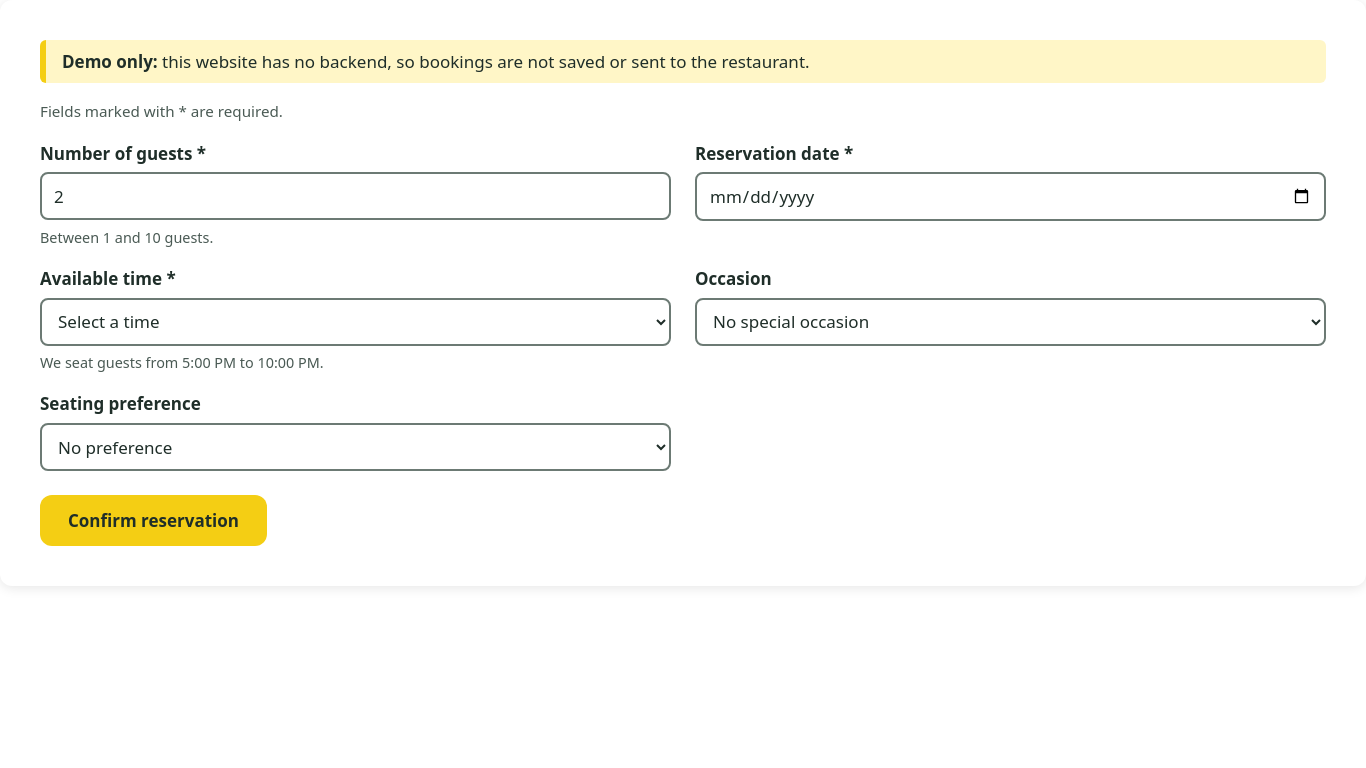
Scenario: BookingForm › shows an error when the number of guests is missing
Clear the number field labelled "Number of guests *". click: (356, 196)
box: [40, 172, 671, 220]
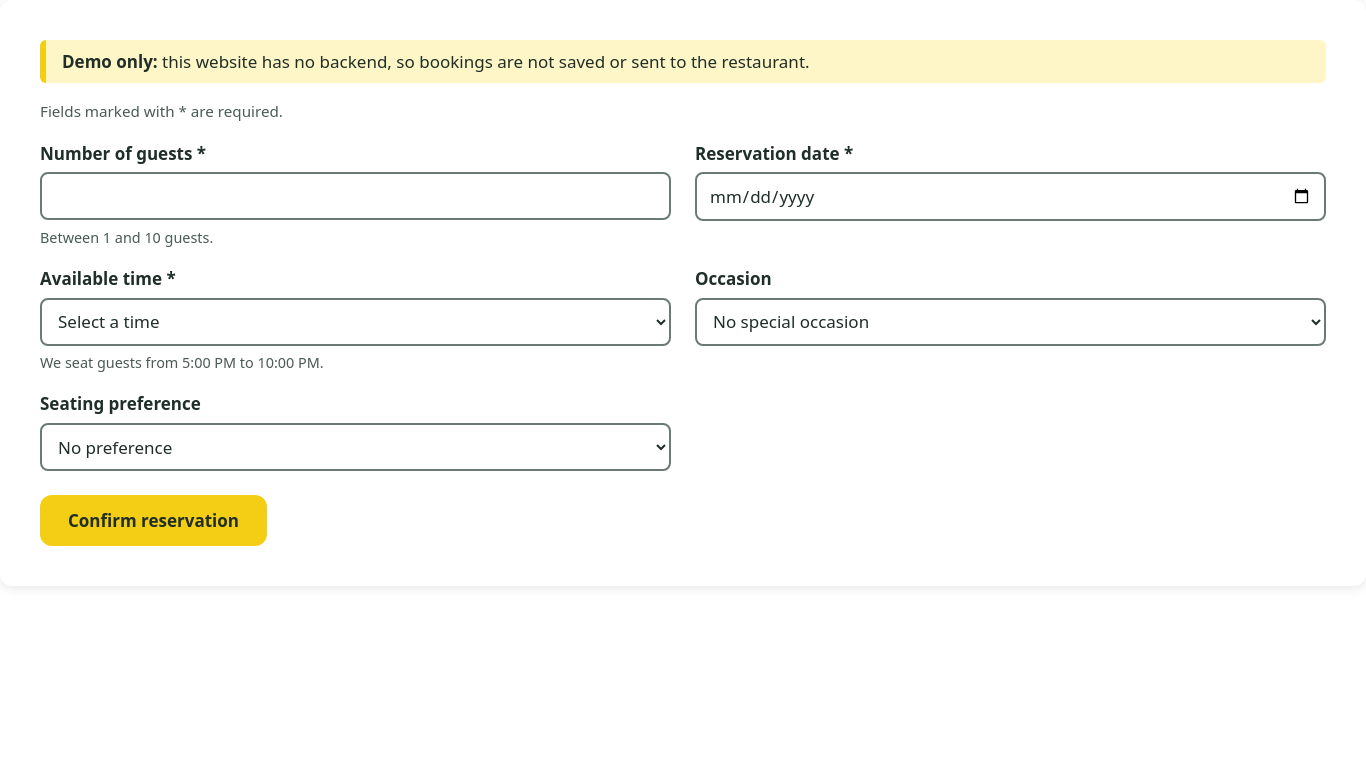
Click the button "Confirm reservation". click: (154, 521)
box: [40, 495, 267, 546]
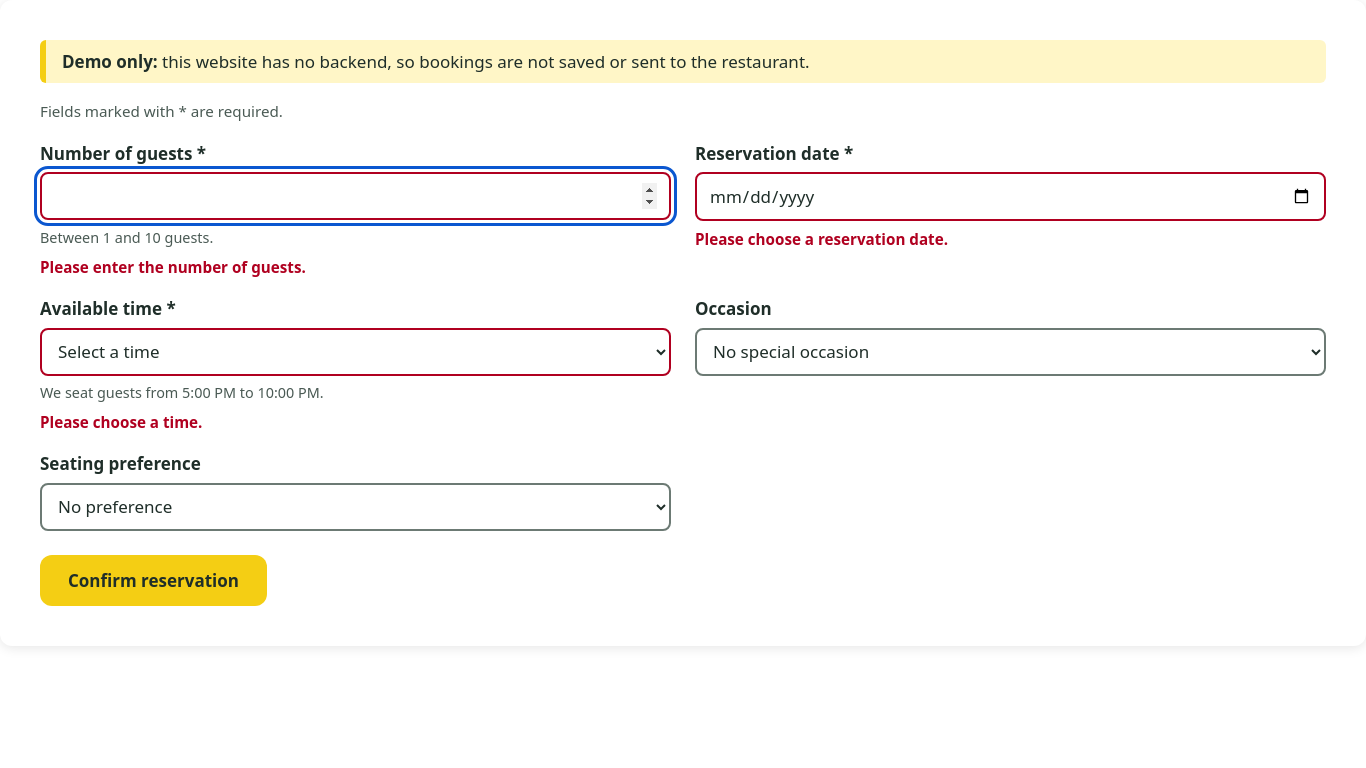
Check: the text "Please enter the number of guests." is shown, box [40, 256, 306, 276]
